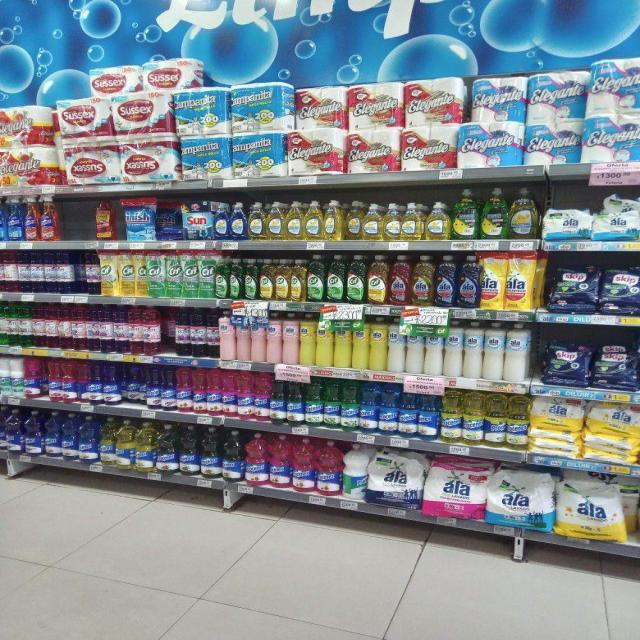ala_conc_amarillo: (412, 254, 434, 307)
ala_conc_azul: (457, 254, 479, 308), (435, 255, 456, 308)
ala_conc_rojo: (389, 254, 410, 306), (24, 196, 40, 241)
ala_crem_amarillo: (316, 315, 334, 367), (370, 316, 387, 371), (352, 316, 369, 370), (334, 318, 352, 368), (300, 313, 315, 366)
ala_crem_blanco: (504, 321, 532, 382), (484, 321, 504, 381), (464, 320, 483, 378), (424, 322, 444, 376), (444, 321, 463, 377), (388, 317, 406, 373), (406, 320, 424, 374)
ala_crem_rosado: (283, 313, 299, 365), (267, 314, 282, 364), (251, 312, 266, 362), (236, 313, 251, 362), (220, 312, 235, 360)
ala_sachet_amarillo: (506, 250, 537, 311), (480, 251, 505, 310)
cif_conc_bot_amarilla: (367, 254, 388, 305), (291, 258, 306, 302), (275, 258, 290, 301), (259, 258, 274, 300)
cif_conc_botella_verde: (346, 254, 366, 304), (326, 254, 345, 303), (307, 255, 325, 302), (244, 258, 258, 300), (229, 258, 243, 300), (216, 255, 228, 299)
cif_conc_sachet_amarillo: (100, 250, 117, 296), (118, 250, 135, 296), (135, 251, 147, 297)
cif_conc_sachet_verde: (182, 251, 198, 299), (165, 250, 181, 298), (148, 250, 164, 298), (199, 252, 214, 298)
magistral_con_amarillo: (509, 187, 539, 239), (425, 201, 450, 240), (402, 202, 424, 240), (323, 200, 343, 240), (362, 202, 381, 240), (382, 202, 401, 240), (284, 200, 302, 240), (304, 200, 322, 240), (344, 200, 362, 240), (266, 201, 284, 240), (248, 202, 265, 240)
magistral_con_azul: (6, 196, 24, 241), (230, 201, 246, 240), (214, 202, 228, 240)
